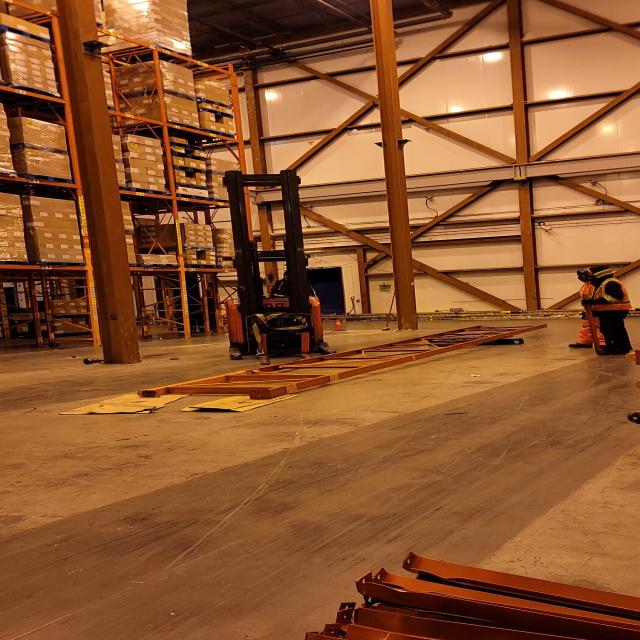forklift: (226, 173, 338, 362)
human: (593, 264, 635, 358), (567, 265, 608, 351), (253, 268, 316, 304)
objectofinterest: (132, 320, 558, 402), (55, 386, 197, 418), (176, 386, 305, 414), (492, 334, 529, 349)
